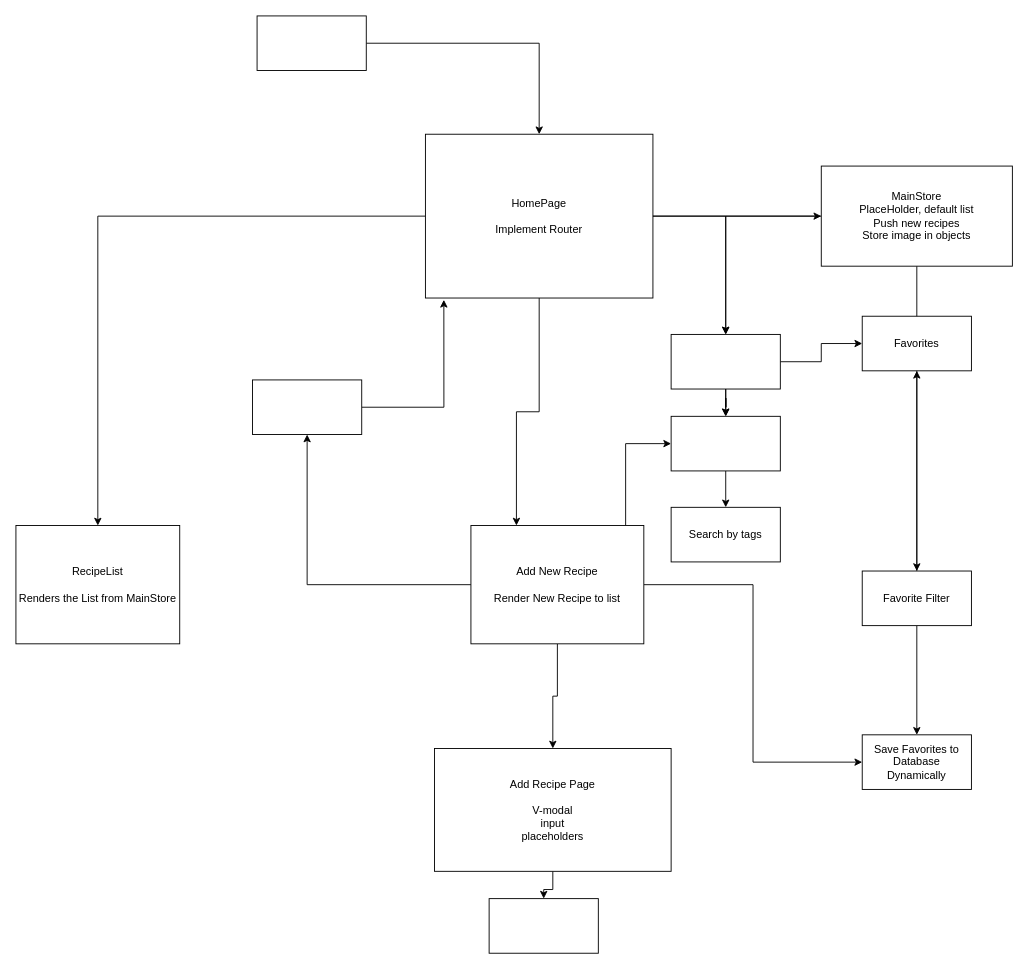
Some shapes in this 1028 by 969 pixel diagram are drawn without their labels. The shapes that lost their labels are listed below. From the top down, each one's centre as x and y in pixels, then its label:
[311,43]: App
[725,361]: Tags
[307,407]: Render User List Component
[725,443]: Add Tags
[543,925]: Upload Image
